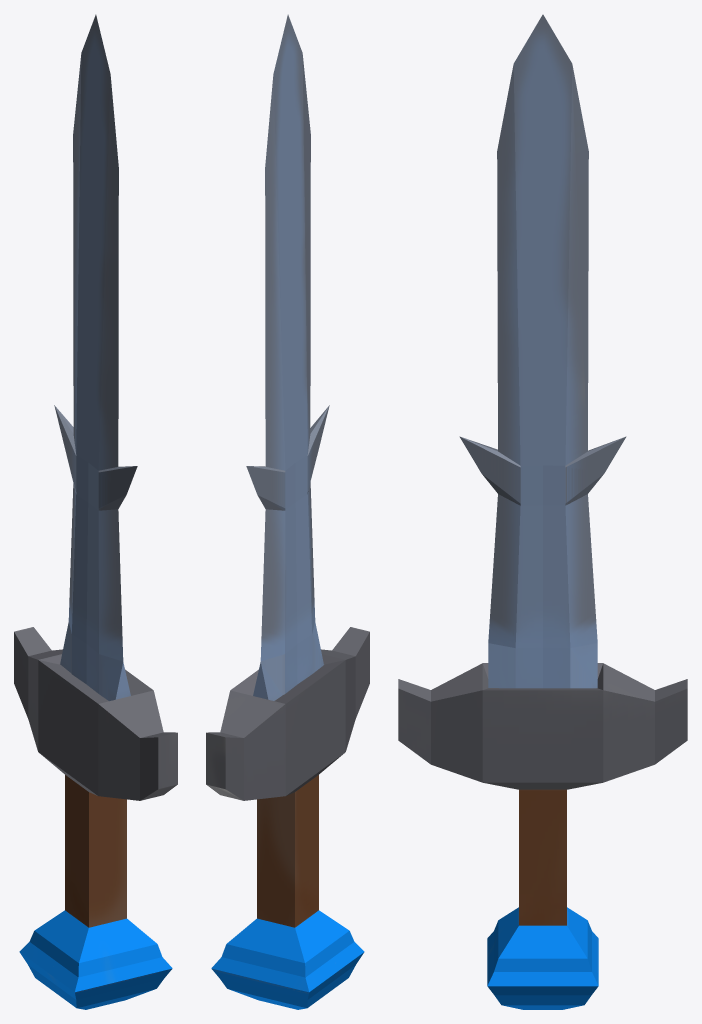
Rendered from QS_SwordRemake.fbx.
3 renders of one model, left to right at view 1: azimuth 30°, elevation 25°; view 2: azimuth 150°, elevation 25°; view 3: azimuth 270°, elevation 25°, orthographic.
Parts seen in each view (by area): view 1: QS_SwordRemake_Model; view 2: QS_SwordRemake_Model; view 3: QS_SwordRemake_Model.
Part boxes in pixels (x1,y1,x2,y2): QS_SwordRemake_Model: (14,14,177,1009); QS_SwordRemake_Model: (206,14,369,1009); QS_SwordRemake_Model: (398,14,687,1009).
Size of the model in its own units: 10.36 by 99.41 by 26.44.
1 material, 1 textured.
